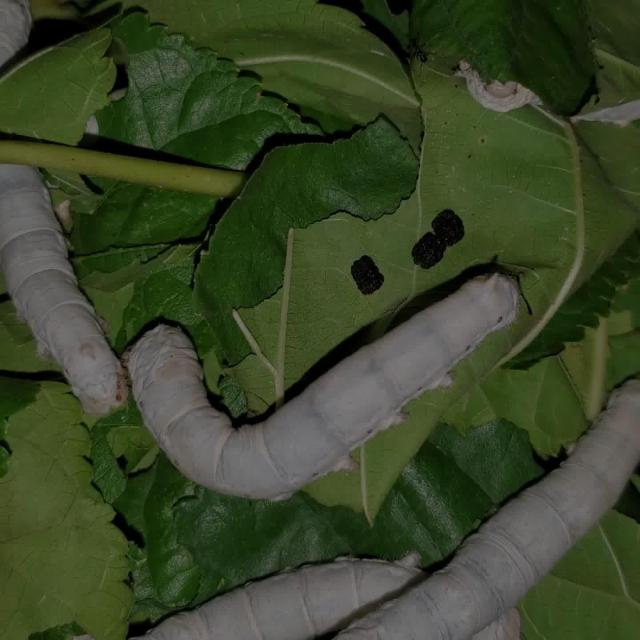Healthy: (128, 258, 526, 503)
